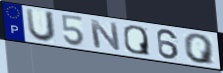5: (60, 13, 86, 48)
6: (156, 29, 180, 61)
N: (88, 18, 123, 53)
Q: (183, 33, 217, 66), (122, 25, 152, 57)
U: (24, 7, 57, 44)
